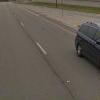Car: (67, 15, 100, 74)
